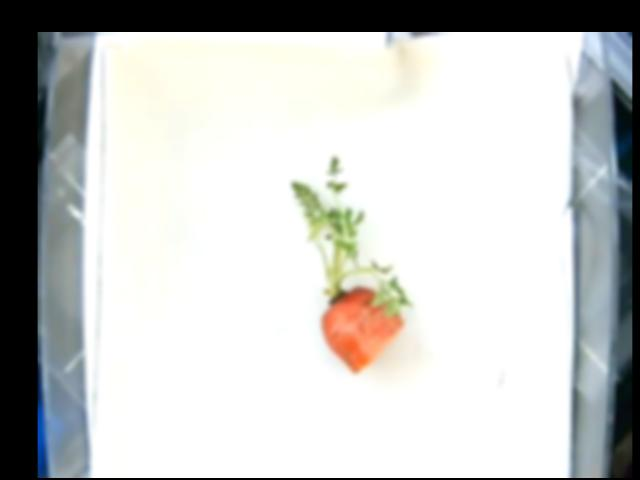Carrot: (290, 153, 414, 373)
